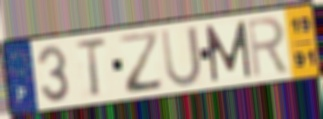3: (35, 43, 72, 104)
M: (203, 19, 253, 84)
R: (245, 15, 291, 80)
T: (73, 36, 109, 101)
U: (159, 24, 204, 90)
Z: (117, 29, 166, 96)
